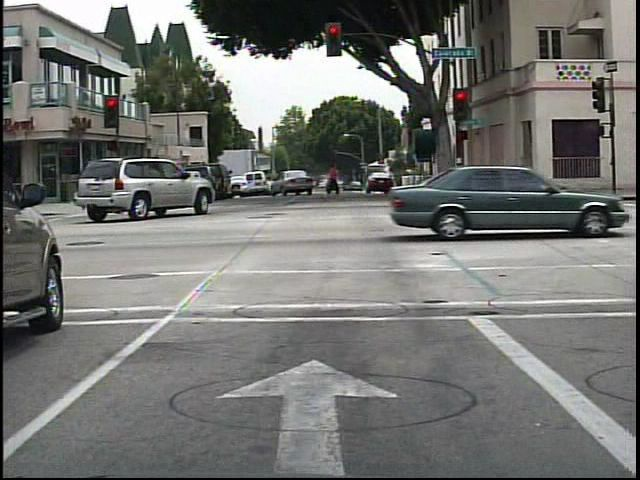person: (323, 157, 344, 200)
